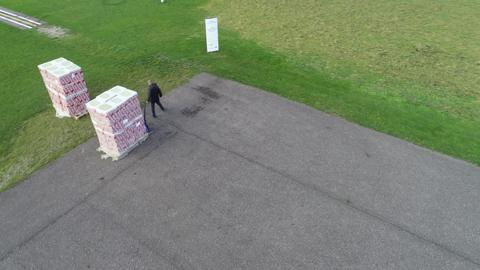RockwoolPallet: (38, 54, 92, 122)
